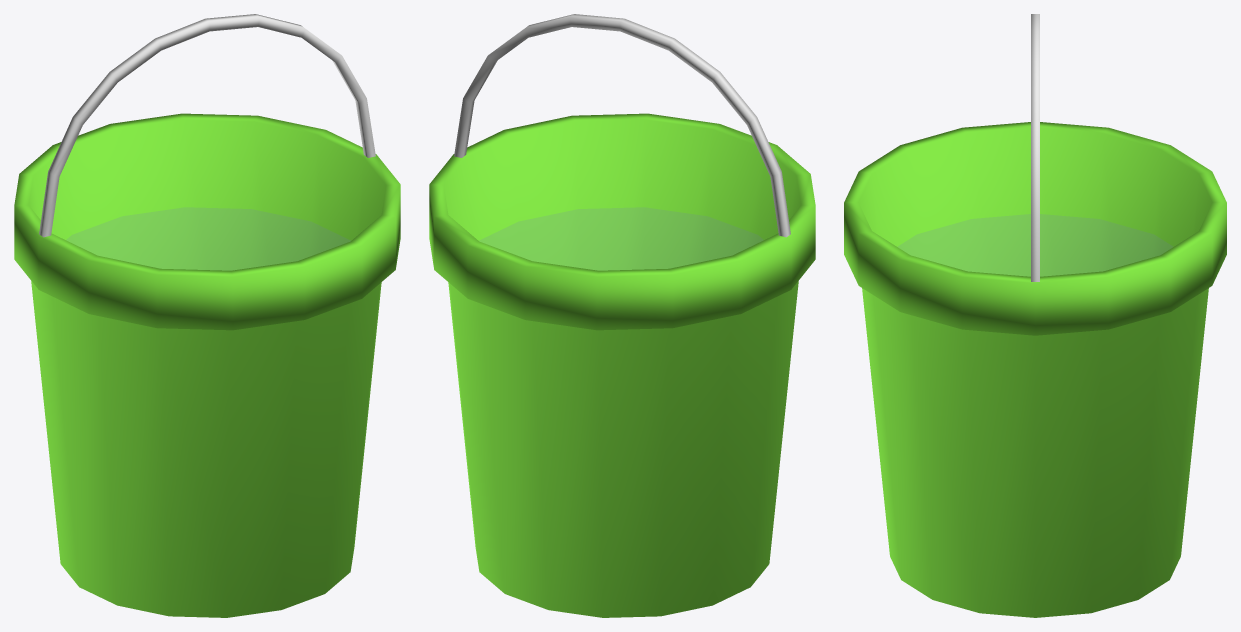
Rendered from bucket.glb.
The picture shows the model from 3 angles, left to right: view 1: azimuth 30°, elevation 25°; view 2: azimuth 150°, elevation 25°; view 3: azimuth 270°, elevation 25°; orthographic projection.
Visible parts, largest first — view 1: bucket; view 2: bucket; view 3: bucket.
Part boxes in pixels (x1,y1,x2,y2): bucket: (14,14,400,617); bucket: (429,14,815,617); bucket: (844,14,1226,617).
Size of the model in its own units: 0.2645 by 0.401 by 0.2645.
